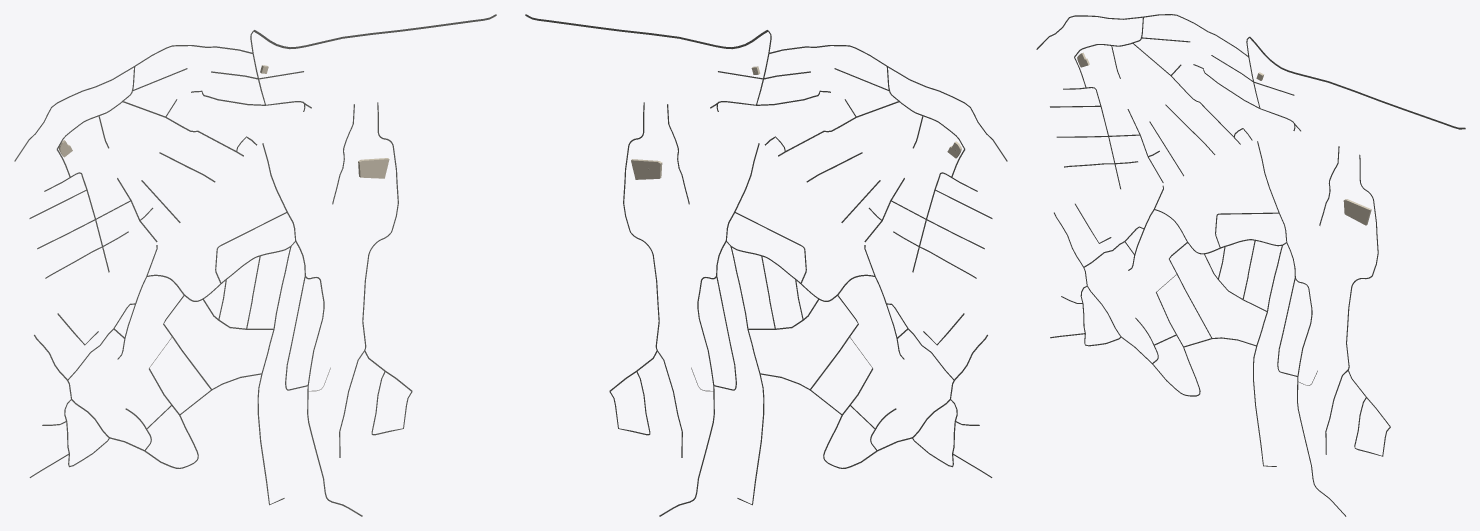
File: historic-palestine-09_21_3506_3150.glb
3 renders of one model, left to right at view 1: azimuth 30°, elevation 25°; view 2: azimuth 150°, elevation 25°; view 3: azimuth 330°, elevation 25°, orthographic. The views are drawn at different scales.
Visible parts, largest first — view 1: Road .033, Road طريق واد ننقر دورا, Road .034, Building_.002; view 2: Road .033, Road طريق واد ننقر دورا, Road .034, Building_.002; view 3: Road .033, Road طريق واد ننقر دورا, Road .034.
Boxes of the visible parts, x1,y1,x2,y2 form: Road .033: (257,143,296,505); Road طريق واد ننقر دورا: (254,14,496,49); Road .034: (295,241,362,516); Building_.002: (358,158,389,178); Road .033: (725,143,764,505); Road طريق واد ننقر دورا: (525,14,768,49); Road .034: (659,241,726,516); Building_.002: (631,159,662,179); Road .033: (1253,141,1287,466); Road طريق واد ننقر دورا: (1249,37,1465,129); Road .034: (1286,242,1346,516).
Bounding box in the file's own units: 1282 × 1315 × 8.7.
